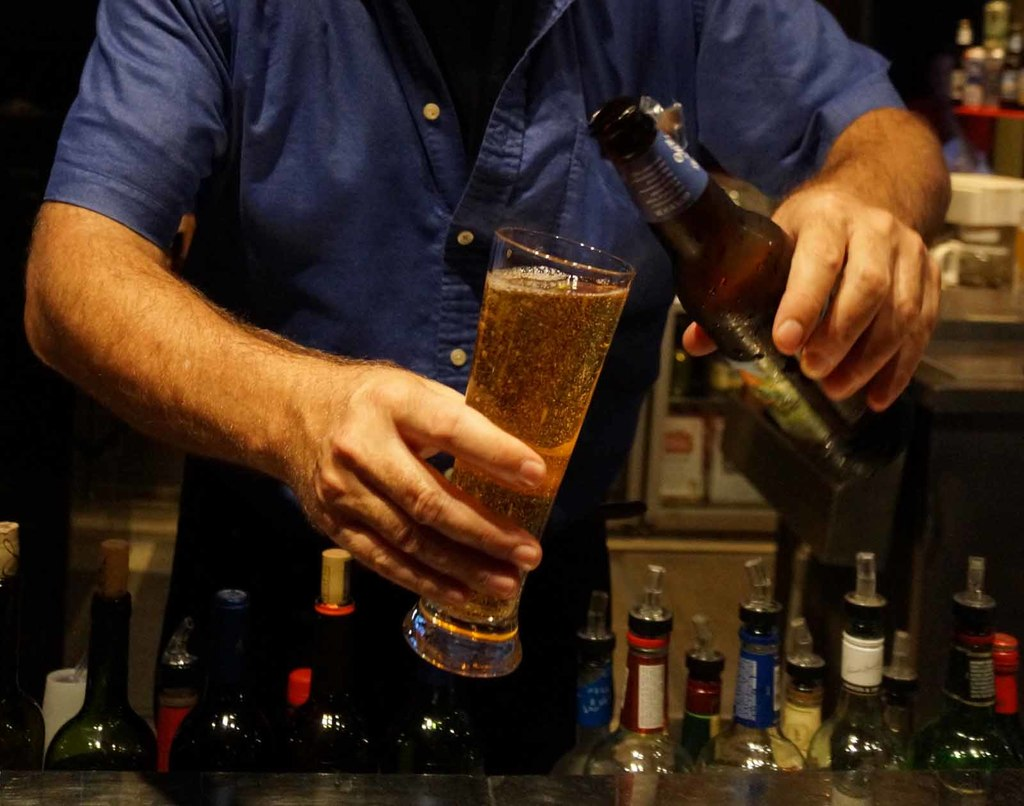Beer: (587, 104, 929, 491), (425, 265, 622, 638)
